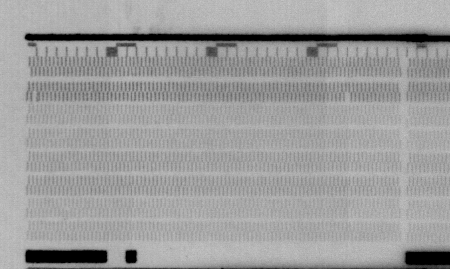Broken hole: (343, 92, 354, 103)
Oblique printing: (62, 208, 73, 222), (30, 92, 42, 102)
